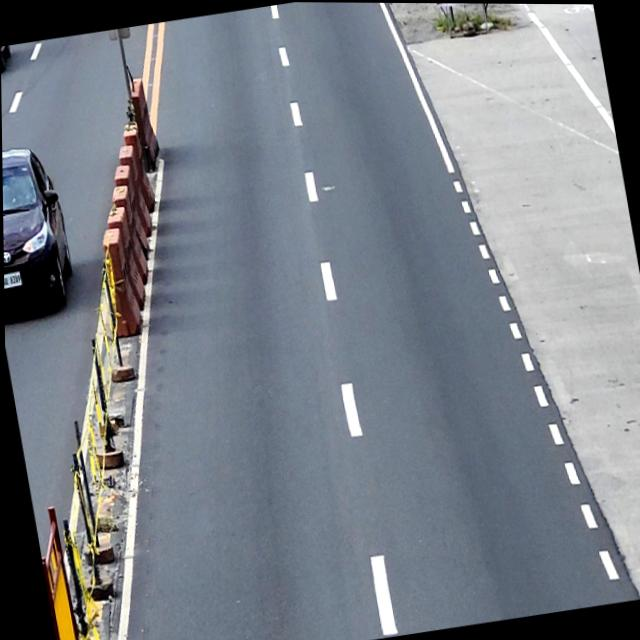Car: (2, 141, 78, 315)
License-Plate: (3, 269, 22, 290)
